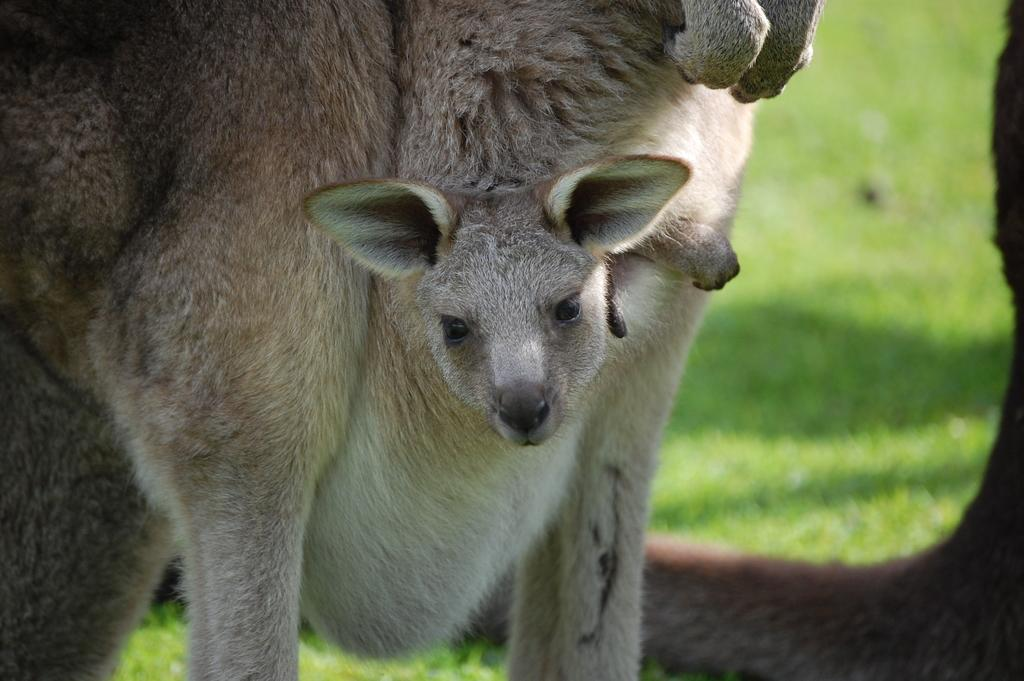kangaroo: (0, 0, 822, 680), (306, 150, 735, 452)
